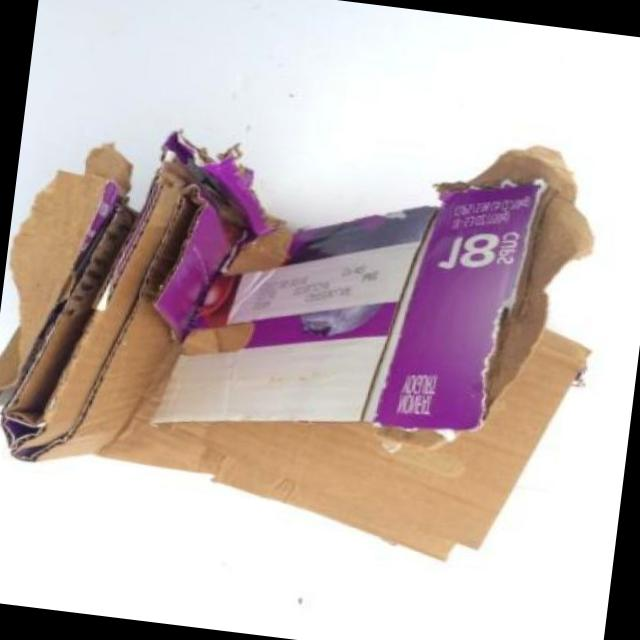cardboard paper: (0, 135, 592, 560)
